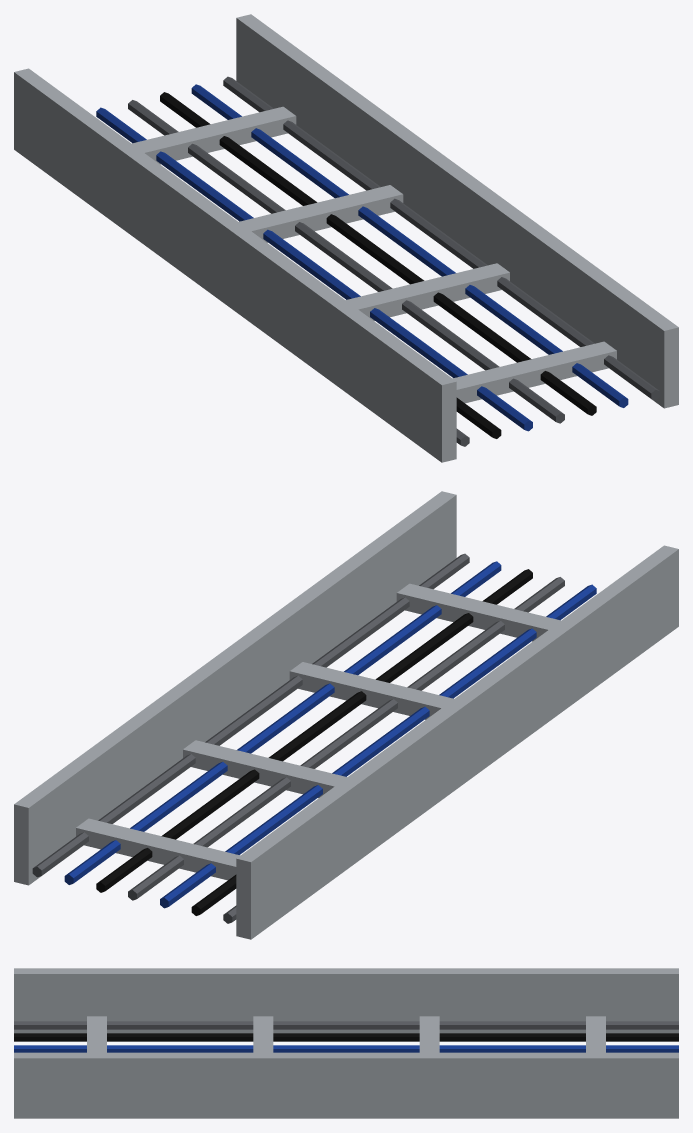
The model's file is services.tray.ladder_300.glb.
The picture shows the model from 3 angles, top to bottom: view 1: azimuth 30°, elevation 25°; view 2: azimuth 150°, elevation 25°; view 3: azimuth 270°, elevation 25°; orthographic projection. The views are drawn at different scales.
Visible parts, largest first — view 1: main__steel_galvanised, main__plastic_grey, main__plastic_blue, main__plastic_black; view 2: main__steel_galvanised, main__plastic_grey, main__plastic_blue, main__plastic_black; view 3: main__steel_galvanised, main__plastic_black, main__plastic_grey, main__plastic_blue.
Part boxes in pixels (<box>): main__steel_galvanised: <box>14,14,678,462</box>; main__plastic_grey: <box>128,76,660,446</box>; main__plastic_blue: <box>96,84,628,431</box>; main__plastic_black: <box>160,92,596,438</box>; main__steel_galvanised: <box>14,491,678,939</box>; main__plastic_grey: <box>32,553,564,923</box>; main__plastic_blue: <box>64,561,596,908</box>; main__plastic_black: <box>96,569,532,915</box>; main__steel_galvanised: <box>14,968,678,1118</box>; main__plastic_black: <box>14,1033,678,1041</box>; main__plastic_grey: <box>14,1021,678,1029</box>; main__plastic_blue: <box>14,1045,678,1052</box>.
Size of the model in its own units: 0.32 by 0.1 by 1.
